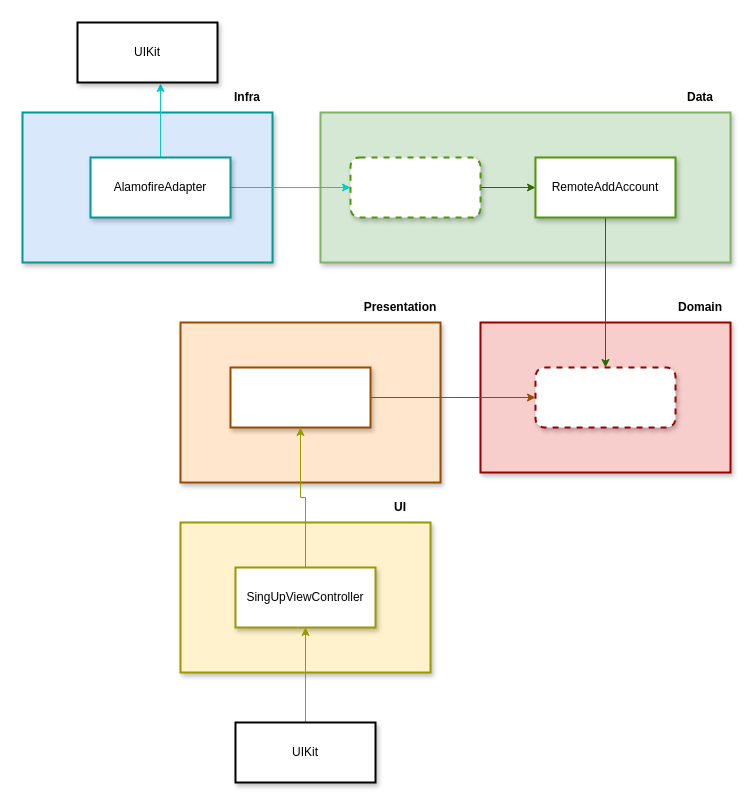
Image size: 754x807. Some labels were removed from this diagram. The centre of each missing label's shape, as x and y in pixels:
"AddAccount" goes at point (606, 398).
"HttpPostClient" goes at point (416, 188).
"SingUpViewPresenter" goes at point (301, 398).
